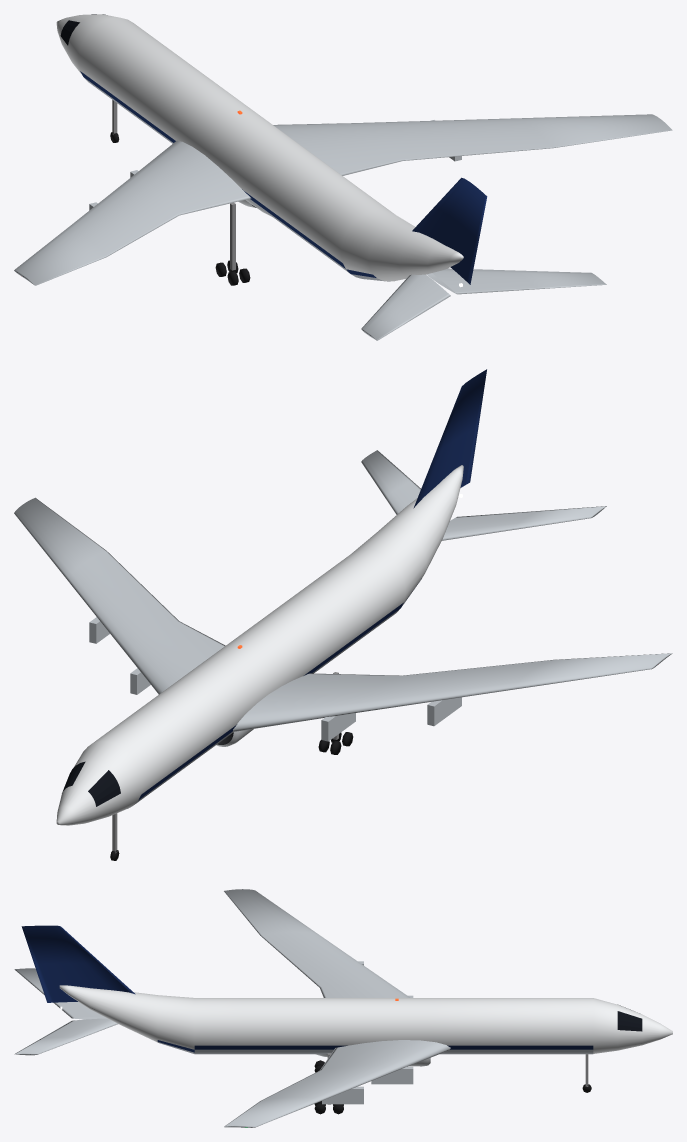
The model's file is fleet_heavy4_lod0.glb.
3 renders of one model, top to bottom at view 1: azimuth 30°, elevation 25°; view 2: azimuth 150°, elevation 25°; view 3: azimuth 270°, elevation 25°, orthographic. The views are drawn at different scales.
Visible parts, largest first — view 1: fleet_heavy4_lod0_wing, fleet_heavy4_lod0_white, fleet_heavy4_lod0_blue, fleet_heavy4_lod0_metal, fleet_heavy4_lod0_tyre, fleet_heavy4_lod0_belly; view 2: fleet_heavy4_lod0_white, fleet_heavy4_lod0_wing, fleet_heavy4_lod0_blue, fleet_heavy4_lod0_glass; view 3: fleet_heavy4_lod0_white, fleet_heavy4_lod0_wing, fleet_heavy4_lod0_blue, fleet_heavy4_lod0_belly, fleet_heavy4_lod0_glass, fleet_heavy4_lod0_tyre.
Boxes of the visible parts, <box> form: fleet_heavy4_lod0_wing: <box>14,114,672,340</box>; fleet_heavy4_lod0_white: <box>56,14,463,281</box>; fleet_heavy4_lod0_blue: <box>80,71,487,284</box>; fleet_heavy4_lod0_metal: <box>112,100,235,270</box>; fleet_heavy4_lod0_tyre: <box>110,132,250,285</box>; fleet_heavy4_lod0_belly: <box>84,77,390,281</box>; fleet_heavy4_lod0_white: <box>56,465,463,825</box>; fleet_heavy4_lod0_wing: <box>14,450,672,741</box>; fleet_heavy4_lod0_blue: <box>138,369,486,800</box>; fleet_heavy4_lod0_glass: <box>62,761,120,806</box>; fleet_heavy4_lod0_white: <box>59,985,672,1053</box>; fleet_heavy4_lod0_wing: <box>14,889,450,1127</box>; fleet_heavy4_lod0_blue: <box>21,925,593,1052</box>; fleet_heavy4_lod0_belly: <box>157,1042,593,1054</box>; fleet_heavy4_lod0_glass: <box>617,1005,642,1031</box>; fleet_heavy4_lod0_tyre: <box>314,1060,591,1114</box>.
Bounding box in the file's own units: 64.4 × 21.12 × 75.95.
